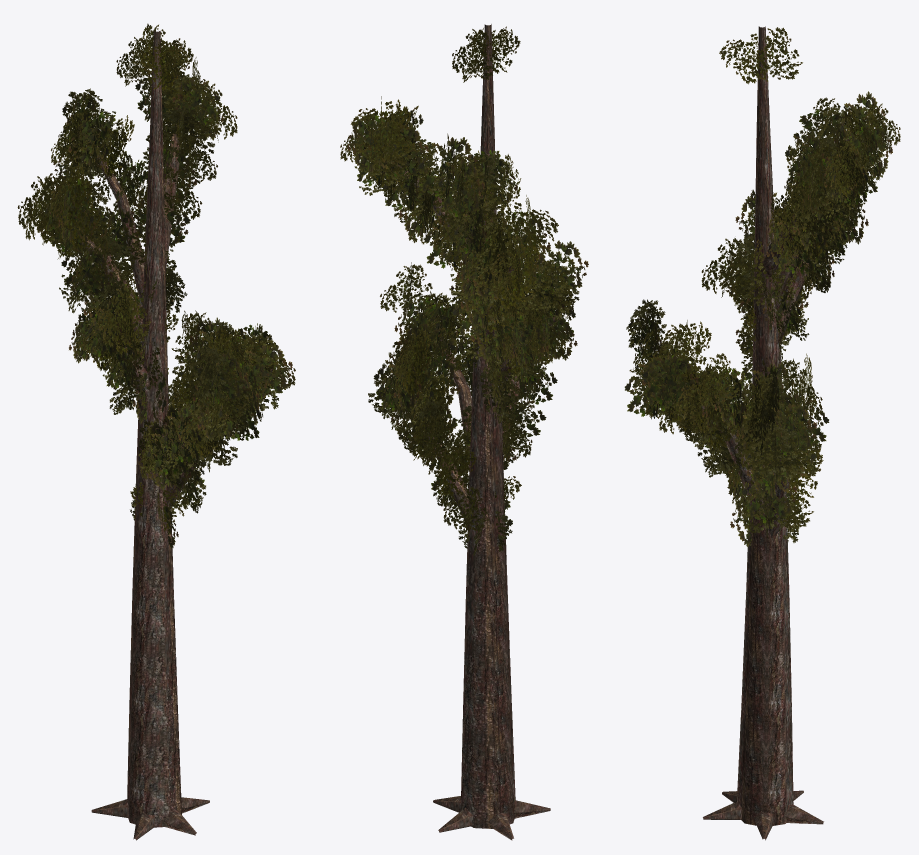
Rendered from tree_3d_02_lod1.glb.
The picture shows the model from 3 angles, left to right: view 1: azimuth 30°, elevation 25°; view 2: azimuth 150°, elevation 25°; view 3: azimuth 270°, elevation 25°; orthographic projection.
Visible parts, largest first — view 1: foliage_cards, wood_geometry; view 2: foliage_cards, wood_geometry; view 3: foliage_cards, wood_geometry.
Boxes of the visible parts, x1=… form: foliage_cards: x1=17, y1=23, x2=295, y2=548; wood_geometry: x1=82, y1=30, x2=272, y2=840; foliage_cards: x1=340, y1=26, x2=588, y2=555; wood_geometry: x1=398, y1=24, x2=558, y2=840; foliage_cards: x1=624, y1=27, x2=900, y2=546; wood_geometry: x1=701, y1=26, x2=852, y2=840.
Bounding box in the file's own units: 3.82 × 12.59 × 4.1.
Materials: 2 (2 with a texture image).
